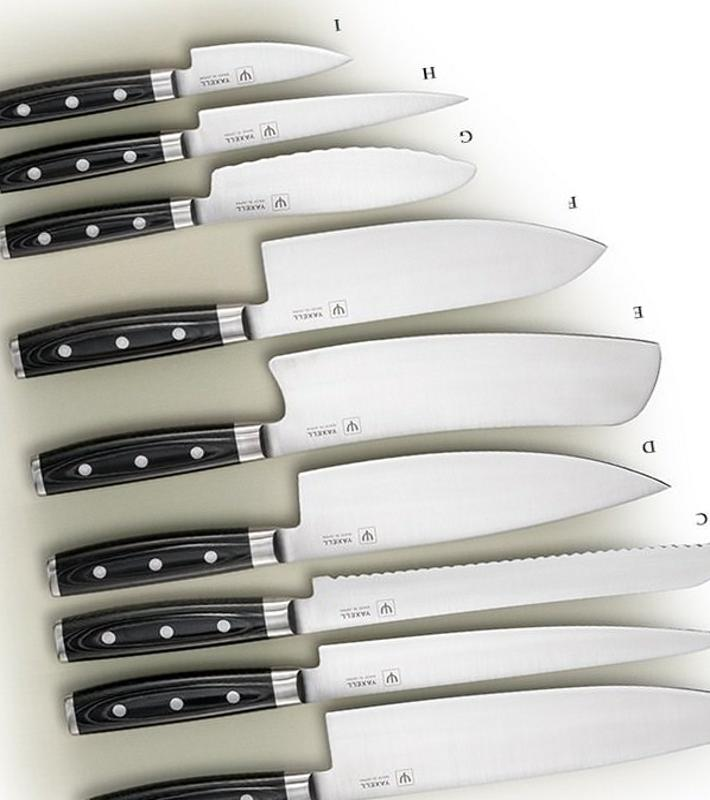knife: (69, 623, 710, 736), (4, 90, 467, 195)
